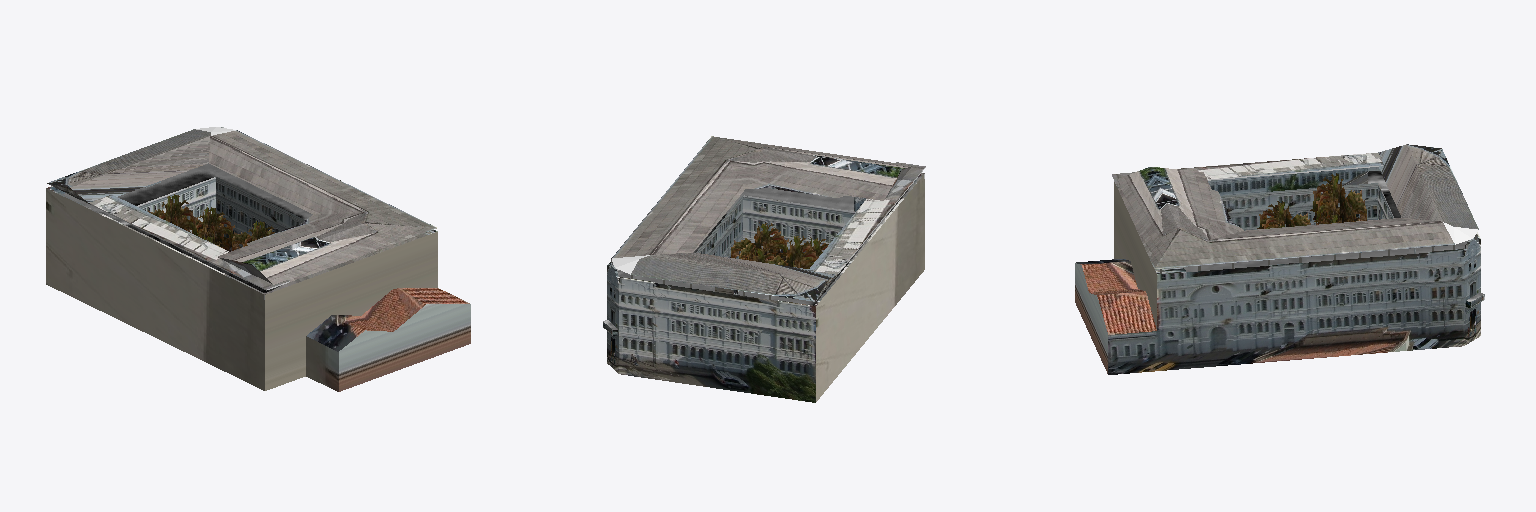
The picture shows the model from 3 angles: view 1: azimuth 30°, elevation 25°; view 2: azimuth 150°, elevation 25°; view 3: azimuth 270°, elevation 25°; orthographic projection.
Parts seen in each view (by area): view 1: Mesh13 Model, Mesh7 Group3 Model, Mesh4 Group2 Model; view 2: Mesh13 Model, Mesh11 Group4 Model, Mesh5 Group2 Model; view 3: Mesh13 Model, Mesh4 Group2 Model, Mesh6 Group2 Model.
Part boxes in pixels (x1,y1,x2,y2): Mesh13 Model: (46,127,470,391); Mesh7 Group3 Model: (187,207,234,249); Mesh4 Group2 Model: (148,194,198,236); Mesh13 Model: (603,136,925,402); Mesh11 Group4 Model: (731,225,788,260); Mesh5 Group2 Model: (766,237,818,268); Mesh13 Model: (1075,144,1484,374); Mesh4 Group2 Model: (1314,176,1362,222); Mesh6 Group2 Model: (1310,174,1366,221).
Size of the model in its own units: 5376 by 2254 by 7410.
Materials: 104 (57 with a texture image).